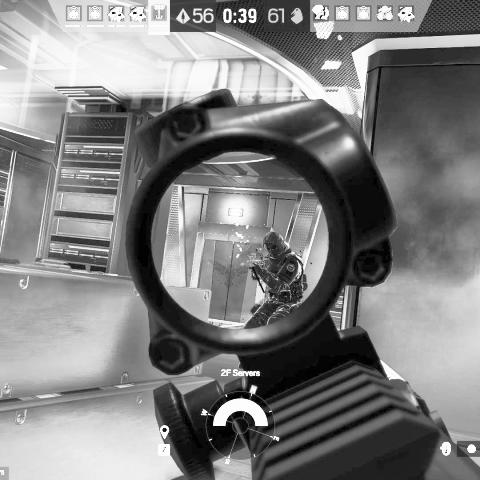Character: (241, 230, 308, 331)
Head: (262, 231, 286, 258)
